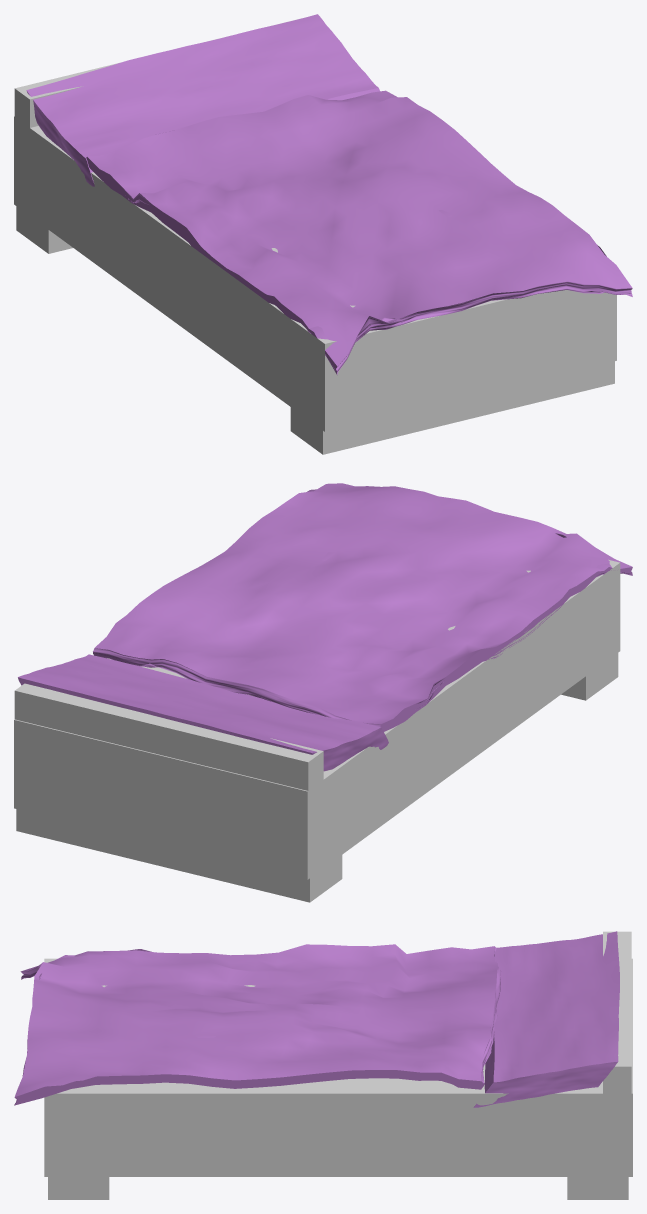
File: cama_doctor.FBX
3 views of the same model, one above another, from view 1: azimuth 30°, elevation 25°; view 2: azimuth 150°, elevation 25°; view 3: azimuth 270°, elevation 25° (orthographic). The views are drawn at different scales.
Parts seen in each view (by area): view 1: Box006, Box001; view 2: Box006, Box001; view 3: Box006, Box001.
Boxes of the visible parts, x1,y1,x2,y2 form: Box006: (26, 14, 632, 374); Box001: (14, 18, 616, 454); Box006: (18, 483, 632, 771); Box001: (14, 559, 620, 902); Box006: (14, 931, 619, 1107); Box001: (44, 931, 632, 1199).
Bounding box in the file's own units: 27.71 × 13.14 × 52.65.
